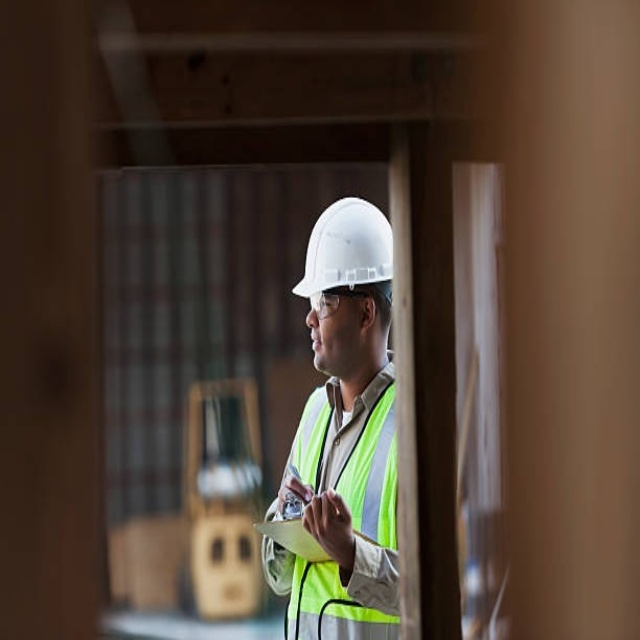Gafas: (310, 289, 372, 319), (282, 491, 305, 520)
Sin_guantes: (302, 486, 353, 563)
Sin_mascara: (308, 329, 333, 367)
